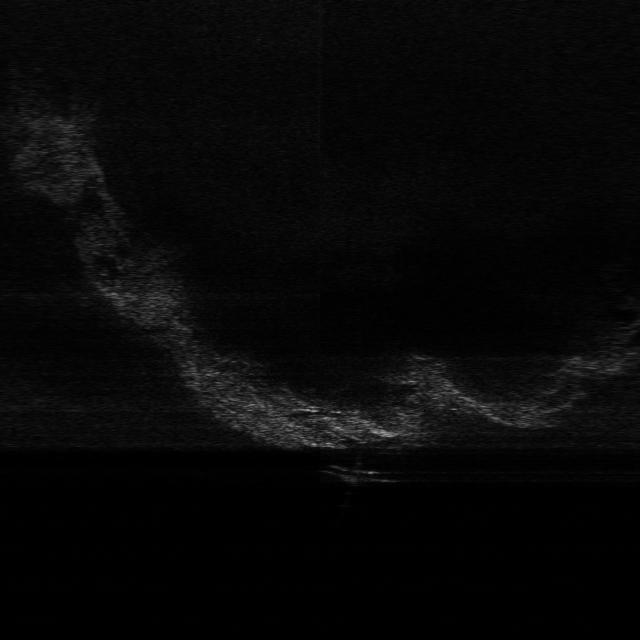plane: (318, 463, 404, 485)
